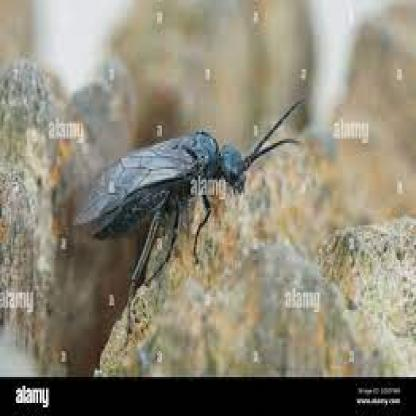sawfly: (70, 97, 308, 324)
